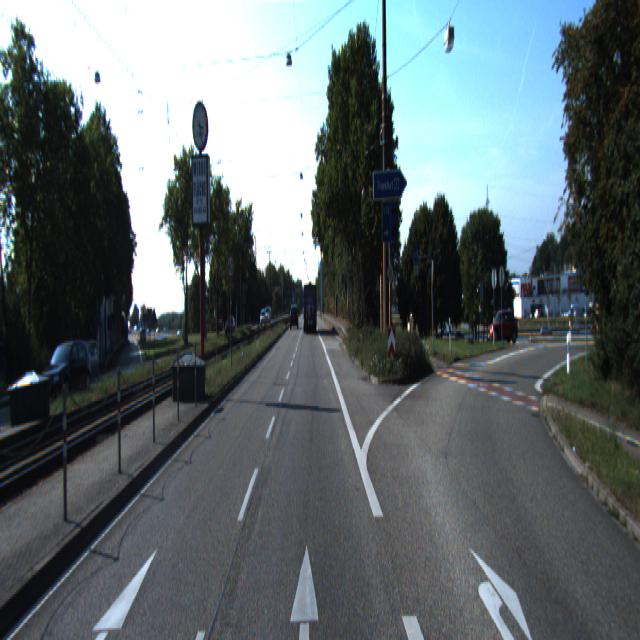Car: (39, 337, 92, 411), (487, 306, 518, 342), (303, 282, 317, 332)
